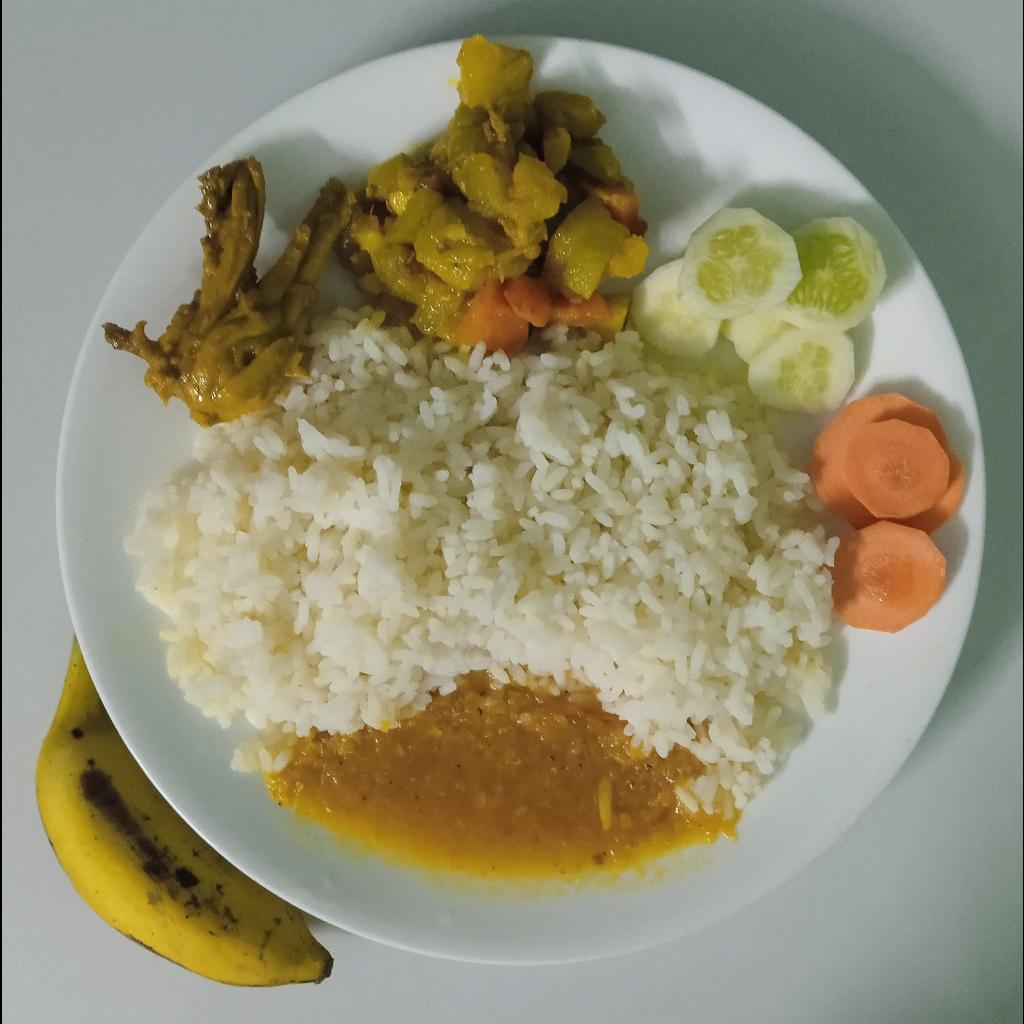banana: (31, 634, 336, 988)
carrot: (811, 392, 965, 634)
chicken: (101, 156, 355, 425)
cucumber: (630, 207, 887, 414)
daal: (265, 687, 743, 879)
rice: (119, 308, 838, 811)
vegetable: (341, 33, 650, 351)
